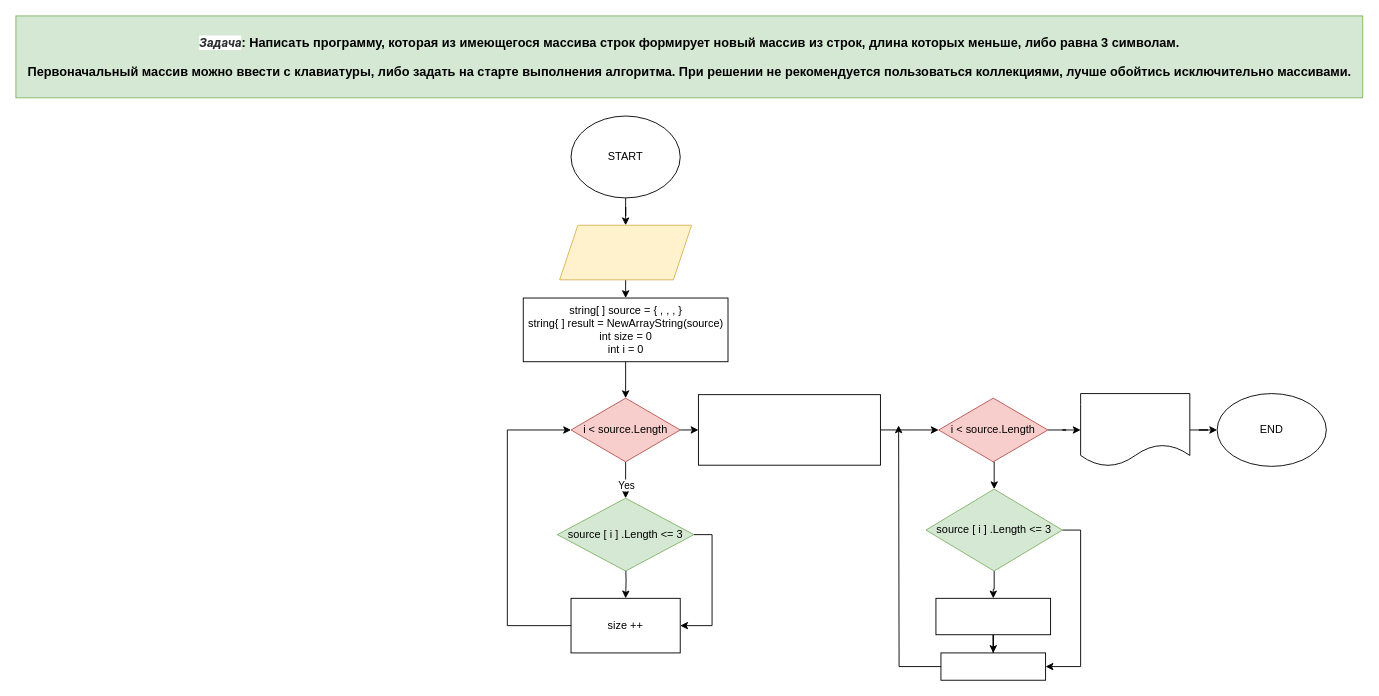
The diagram is 1379 pixels wide and 696 high, and some of its shapes have lost their labels. The shapes that lost their labels are listed below. From the top down, each one's centre as x and y in pixels, then its label:
the point at 625,252: string[ ] source
the point at 789,429: string [ ] result = new string [ size ] int index = 0
the point at 1135,429: string [ ] result
the point at 993,616: result [ index ] = source [ i ]
the point at 993,666: index ++
